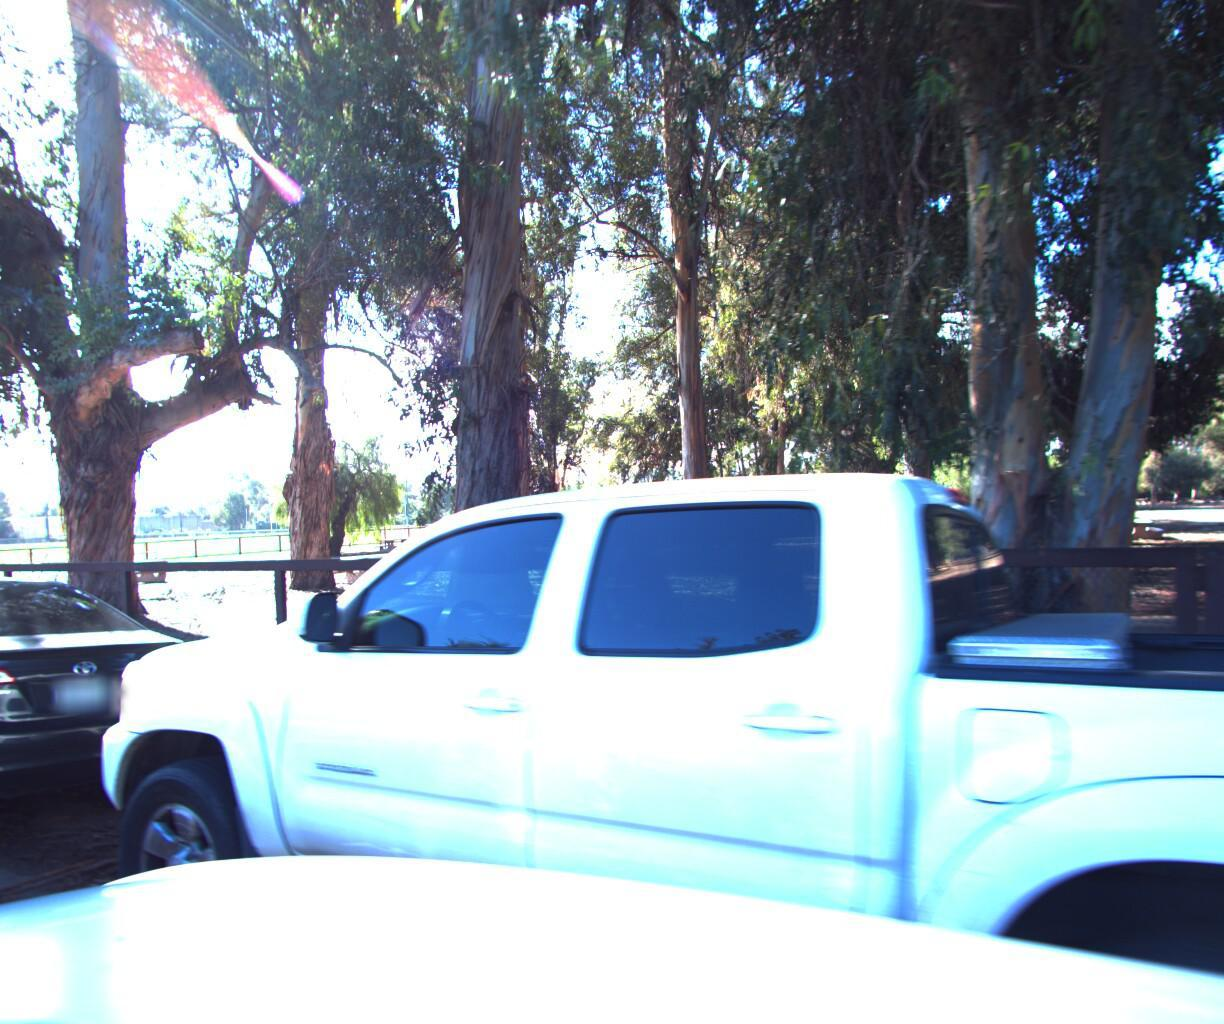car: (0, 348, 1224, 1024), (0, 552, 231, 917)
